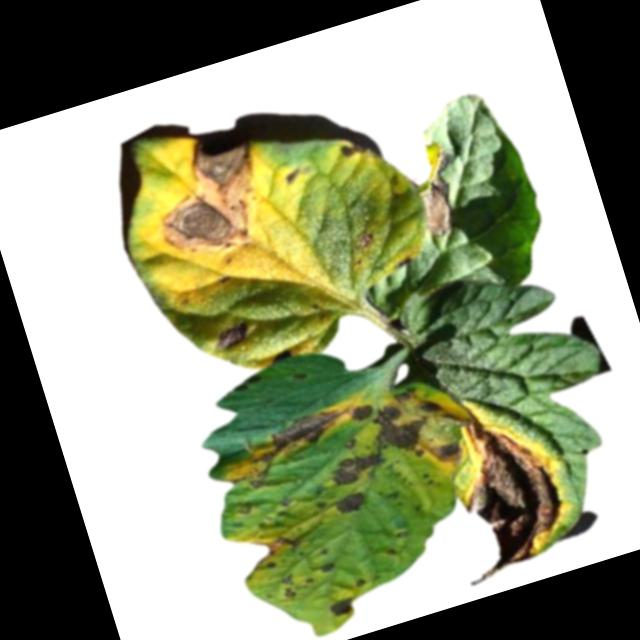Early_blight: (423, 402, 586, 590), (130, 125, 282, 277), (218, 404, 355, 494), (367, 377, 453, 465), (402, 140, 466, 242), (206, 312, 256, 358), (330, 451, 386, 491), (334, 137, 379, 173), (323, 593, 364, 624), (333, 488, 370, 522), (264, 532, 302, 560), (347, 398, 375, 429), (277, 572, 300, 602), (351, 230, 379, 254), (280, 167, 305, 188), (317, 561, 334, 579)
